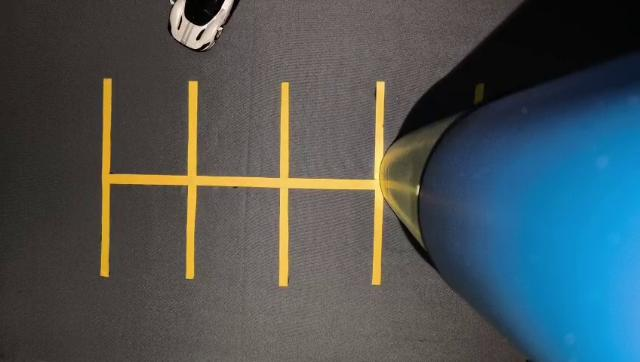toy_car: (141, 0, 281, 67)
